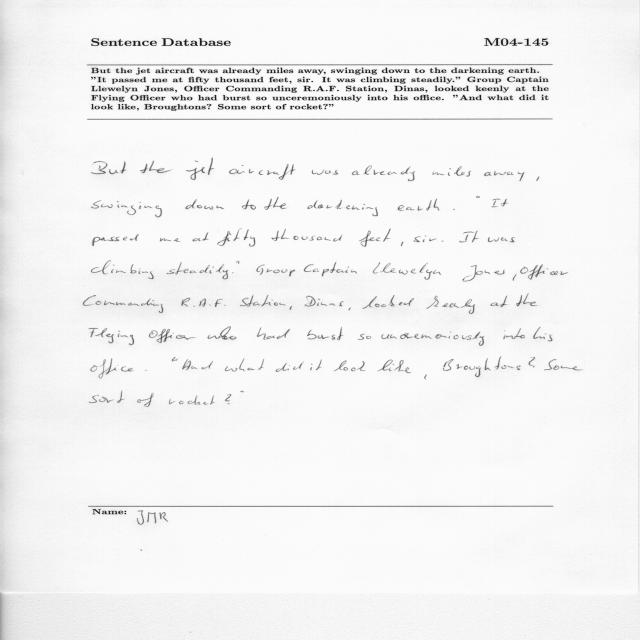word: (443, 357, 521, 377), (381, 331, 484, 346), (84, 295, 164, 313), (373, 262, 441, 280), (91, 201, 162, 218), (307, 200, 378, 216), (92, 261, 154, 279), (229, 164, 295, 180), (166, 262, 228, 279), (352, 166, 415, 182), (271, 229, 343, 242), (427, 296, 476, 314), (91, 359, 133, 379), (304, 262, 357, 277), (520, 264, 568, 280), (89, 328, 134, 345), (362, 295, 414, 309), (217, 229, 255, 247), (463, 265, 505, 281), (149, 329, 196, 343), (186, 158, 214, 180), (359, 229, 391, 247), (93, 234, 139, 246), (240, 295, 285, 307), (225, 359, 264, 372), (398, 199, 440, 211), (307, 327, 343, 340), (92, 161, 127, 174), (169, 395, 214, 405), (377, 360, 411, 373), (89, 391, 125, 403), (185, 199, 224, 210), (257, 265, 296, 276), (257, 327, 290, 340), (433, 166, 471, 177), (544, 359, 582, 370), (140, 161, 172, 174), (484, 171, 524, 181), (182, 298, 226, 307), (305, 296, 344, 306), (208, 327, 237, 340), (333, 361, 366, 372), (182, 359, 213, 370), (276, 361, 304, 372), (265, 197, 287, 210), (533, 327, 553, 341), (517, 294, 538, 306), (503, 329, 525, 340), (459, 231, 479, 243), (137, 393, 153, 407), (491, 296, 508, 307), (414, 236, 437, 243), (242, 199, 256, 210), (192, 233, 209, 242), (491, 199, 508, 207), (488, 237, 515, 242), (310, 360, 322, 371), (312, 170, 338, 175), (160, 238, 180, 242), (358, 334, 371, 340), (529, 357, 535, 367), (225, 394, 231, 404), (513, 274, 517, 281), (172, 357, 178, 361), (537, 176, 540, 181), (424, 375, 427, 380), (236, 261, 240, 264), (290, 306, 293, 310), (401, 242, 403, 246), (349, 307, 351, 311), (476, 197, 480, 198), (240, 391, 244, 392), (453, 209, 455, 210), (442, 240, 443, 242), (232, 273, 233, 274), (145, 370, 147, 370)
